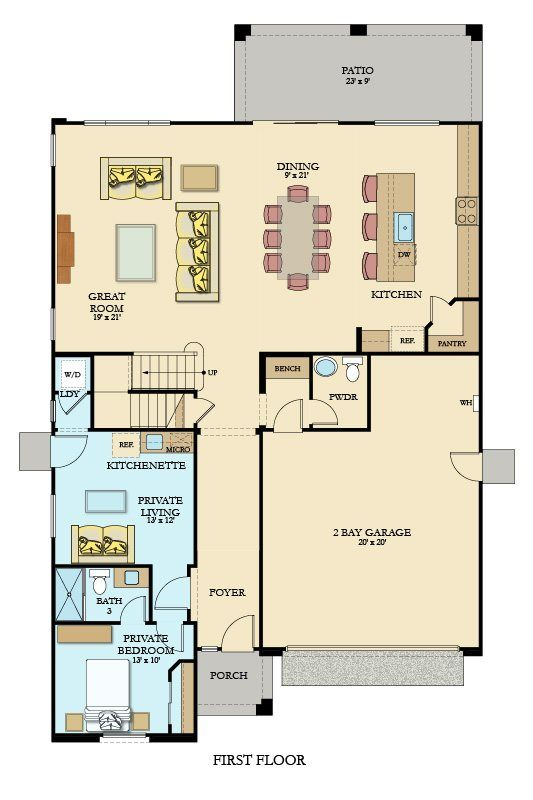door: (153, 574, 189, 614), (52, 432, 88, 472), (217, 612, 256, 647), (270, 394, 304, 430), (311, 394, 345, 430), (446, 449, 480, 485), (153, 625, 188, 657), (114, 591, 149, 623)
room: (49, 427, 202, 569), (52, 622, 197, 742)
window: (286, 644, 461, 653), (83, 119, 171, 127), (373, 119, 441, 127)
